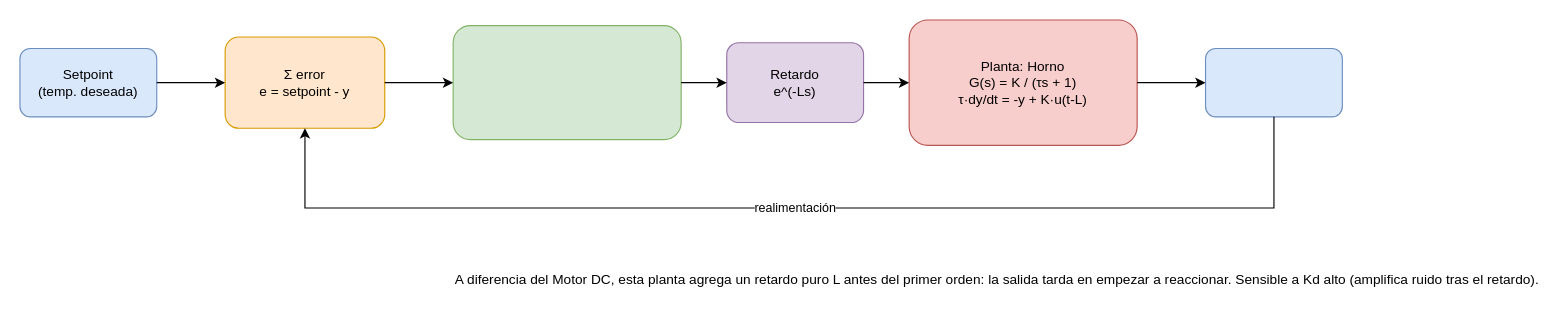
Image size: 1560x325. Some labels were removed from this diagram. Each missing label, with the centre of its shape:
"PID u = Kp·e + Ki∫e·dt - Kd·dy/dt" goes at point (566, 82).
"Salida y(t) (temperatura)" goes at point (1273, 82).
